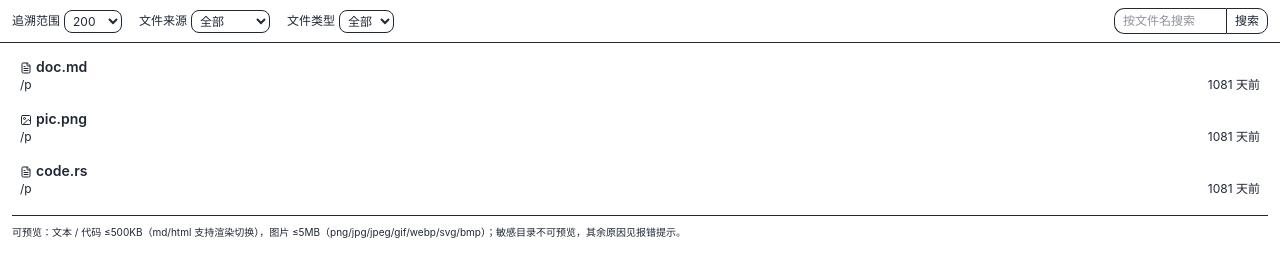
FilePanel 文件类型下拉（用户裁决 5，原 chips 改下拉） › 切回「全部」：代码文件重新可见（代码仅在类型=全部可见的口径保留）
Select "文档" in the dropdown with test id "file-kind-select": [366, 21] box [339, 10, 394, 32]
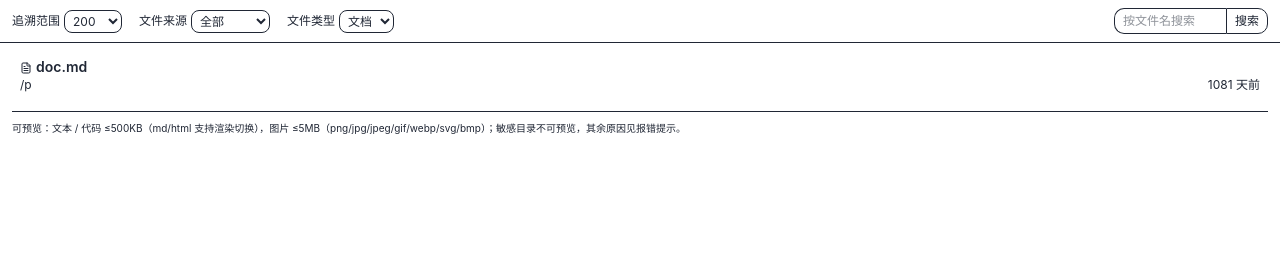
Check: the button "code.rs" is gone
Select "全部" in the dropdown with test id "file-kind-select": [366, 21] box [339, 10, 394, 32]
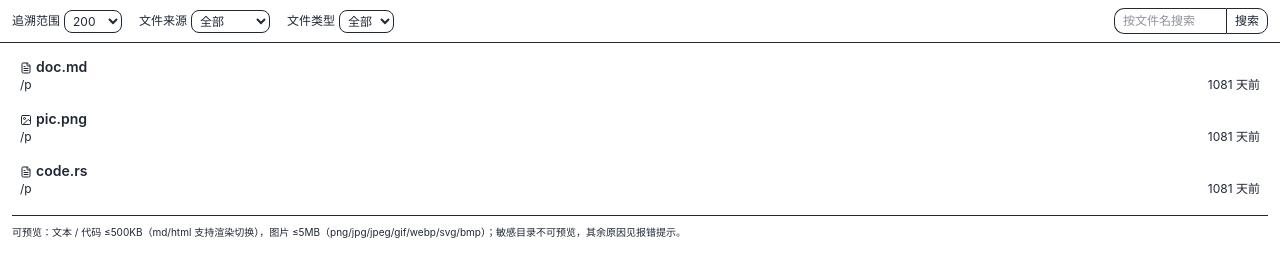
Check: the button "code.rs" is shown, box [20, 161, 1260, 181]
